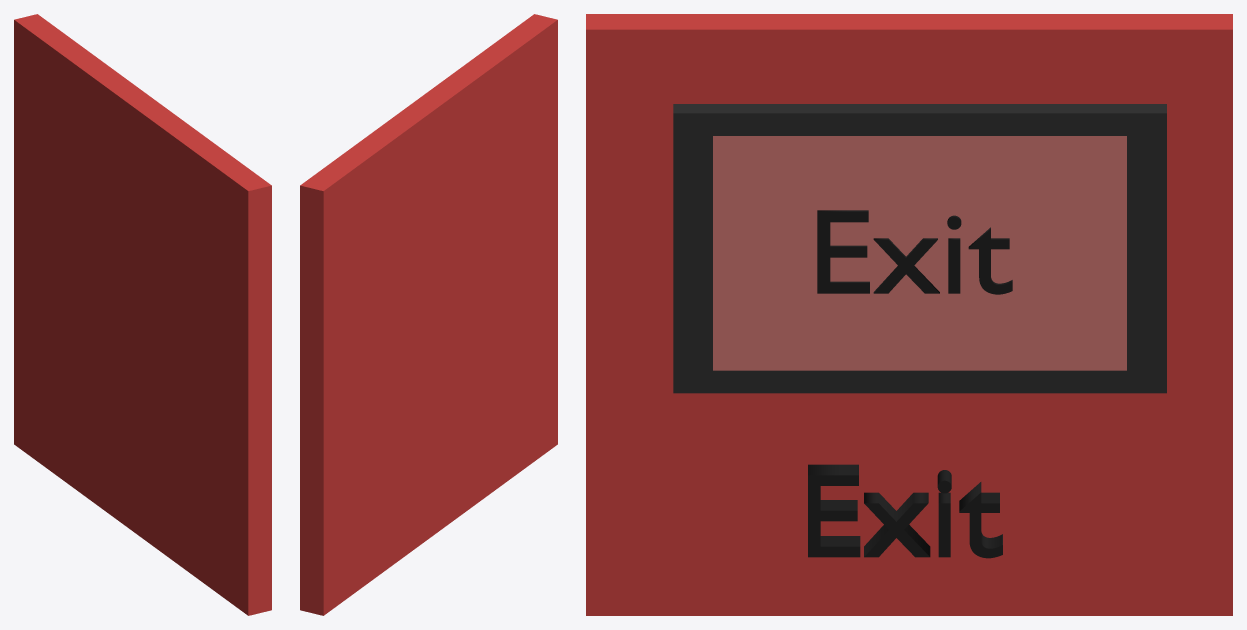
Rendered from Exitbutton.fbx.
3 views of the same model, side by side, from view 1: azimuth 30°, elevation 25°; view 2: azimuth 150°, elevation 25°; view 3: azimuth 270°, elevation 25° (orthographic). The views are drawn at different scales.
Parts seen in each view (by area): view 1: Setting Button.000; view 2: Setting Button.000; view 3: Setting Button.000, Plane, S.000, S.002.
Part boxes in pixels (box(x1,y1,x2,y2)): Setting Button.000: box(14, 14, 271, 615); Setting Button.000: box(300, 14, 557, 615); Setting Button.000: box(586, 14, 1232, 615); Plane: box(673, 104, 1166, 393); S.000: box(808, 464, 1002, 558); S.002: box(817, 210, 1012, 294).
Bounding box in the file's own units: 25.52 × 262 × 262.
